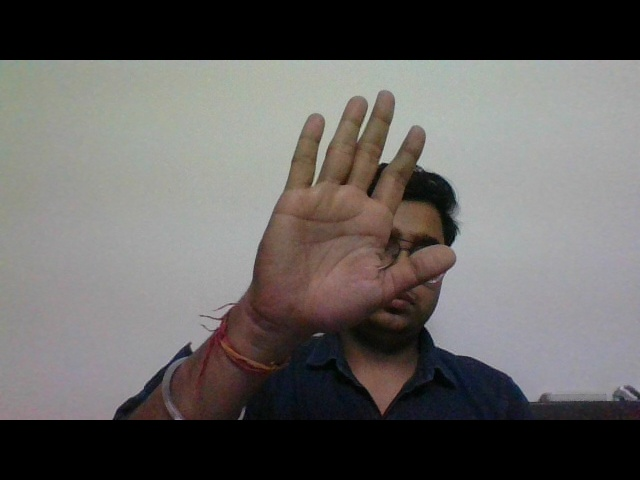Hello: (242, 72, 484, 354)
